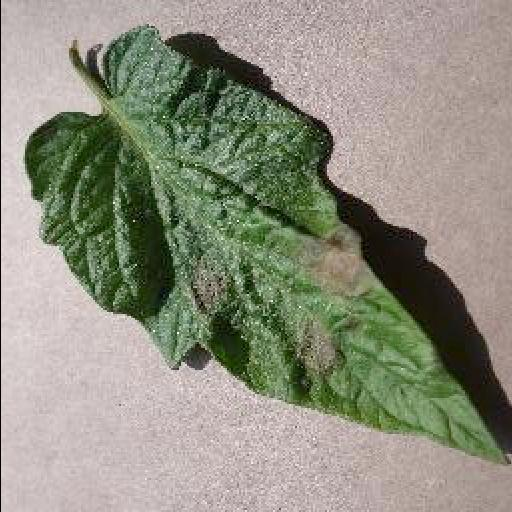disease_tomato: (24, 18, 508, 464)
